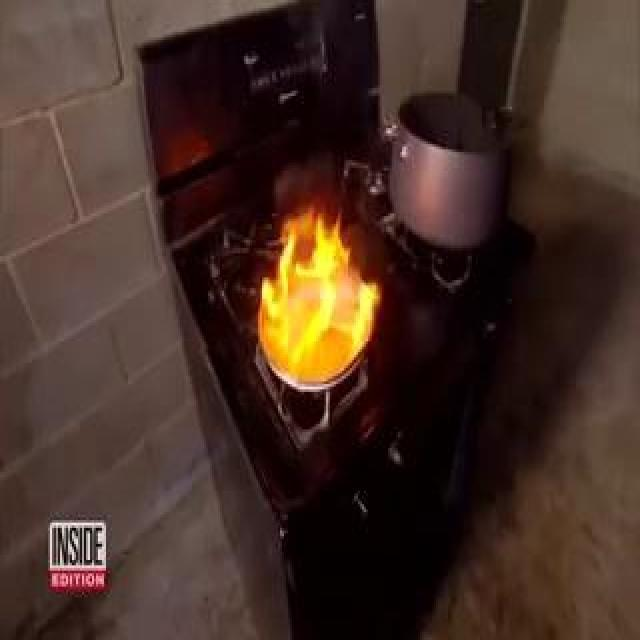Fire: (258, 220, 380, 383)
